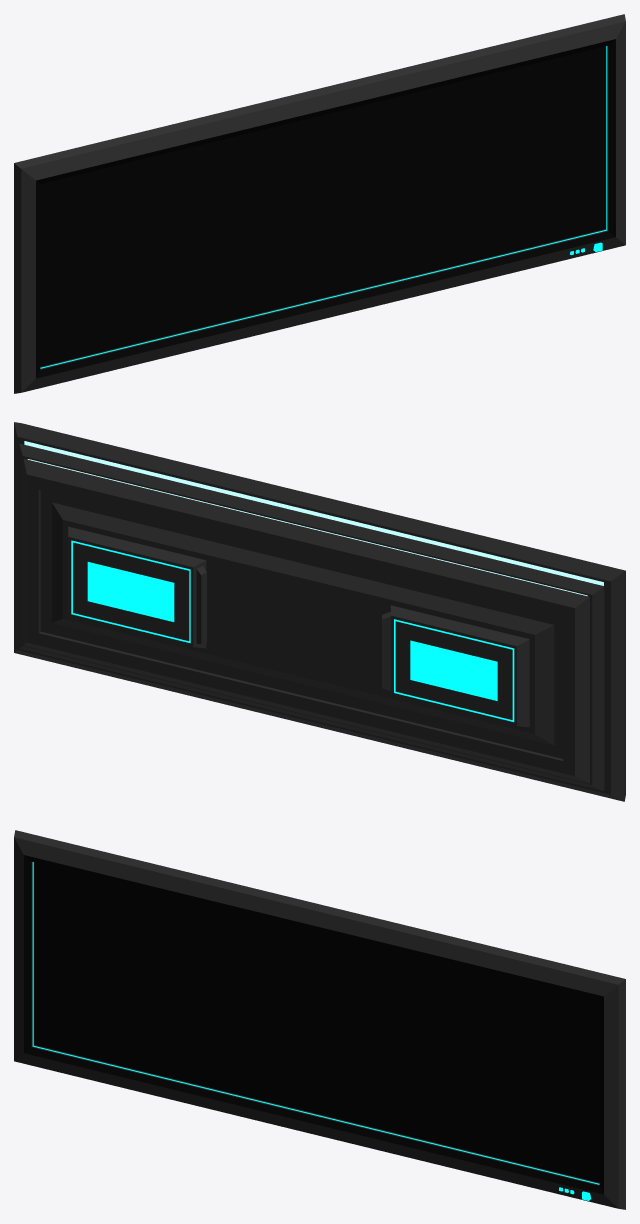
3 renders of one model, top to bottom at view 1: azimuth 30°, elevation 25°; view 2: azimuth 150°, elevation 25°; view 3: azimuth 330°, elevation 25°, orthographic.
Parts seen in each view (by area): view 1: TV; view 2: TV; view 3: TV.
Part boxes in pixels (x1,y1,x2,y2): TV: (14,14,625,393); TV: (14,422,625,801); TV: (14,830,625,1209).
Size of the model in its own units: 1563 by 155 by 565.
